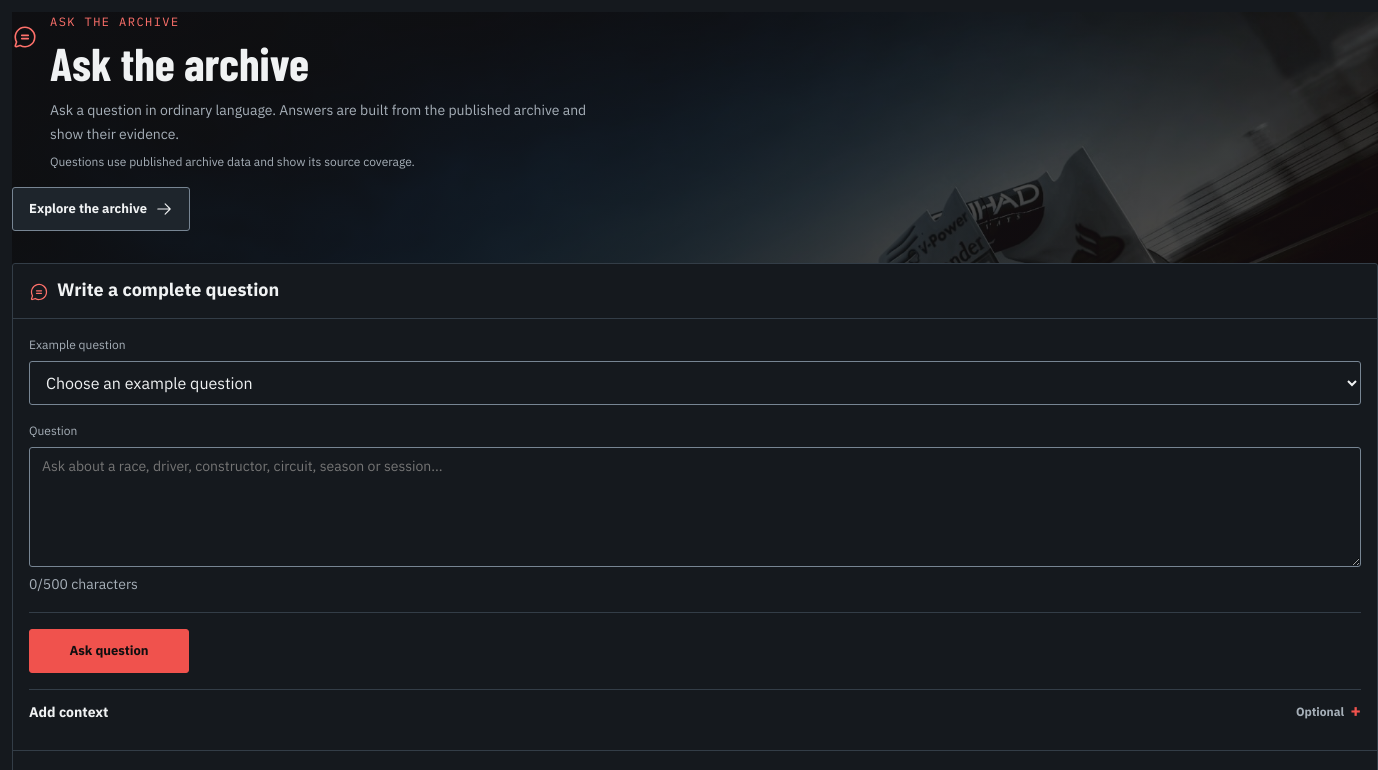
Test case: question clarification stays explicit and offers supplied choices
Step 1. Type "Who won?" into the text box labelled "Question" → (695, 507), box [29,447,1361,567]
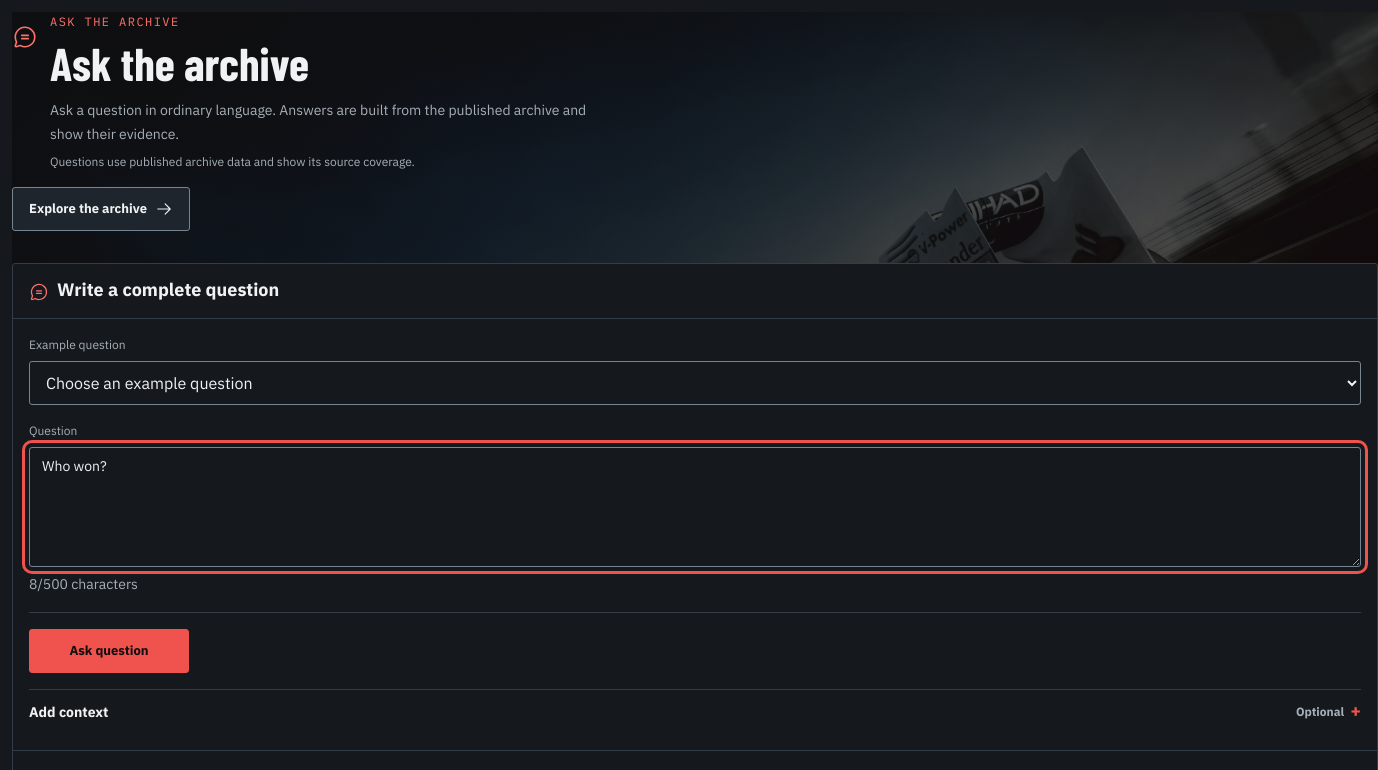
Step 2. Click the button "Ask question" → (109, 651), box [29,629,189,673]
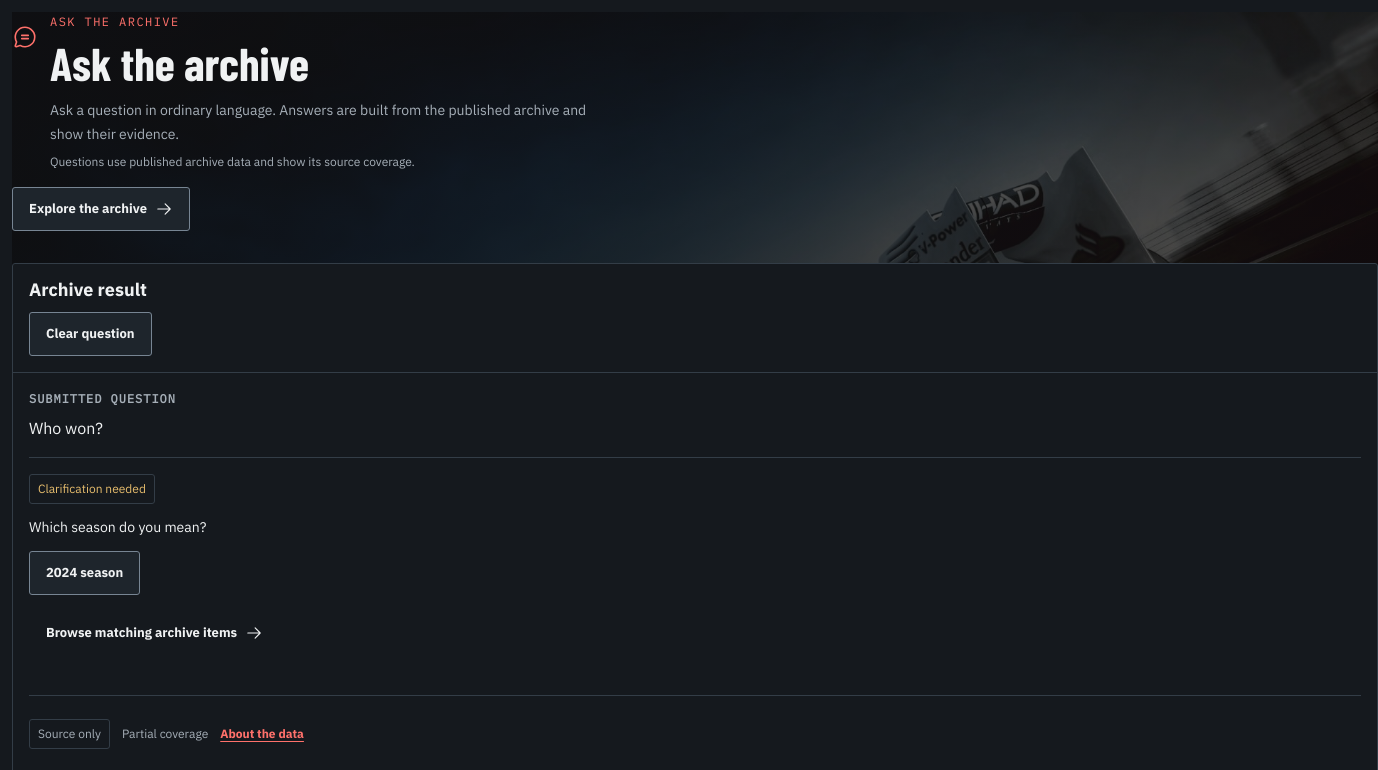
Expected: the text "Which season do you mean?" is shown, [29,518,206,536]
Expected: the button "2024 season" is shown, [29,551,140,595]
